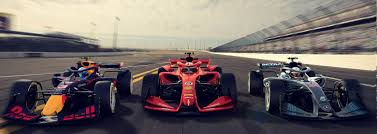FormulaOneCar: (3, 56, 134, 124), (245, 57, 372, 125), (139, 54, 239, 121)
